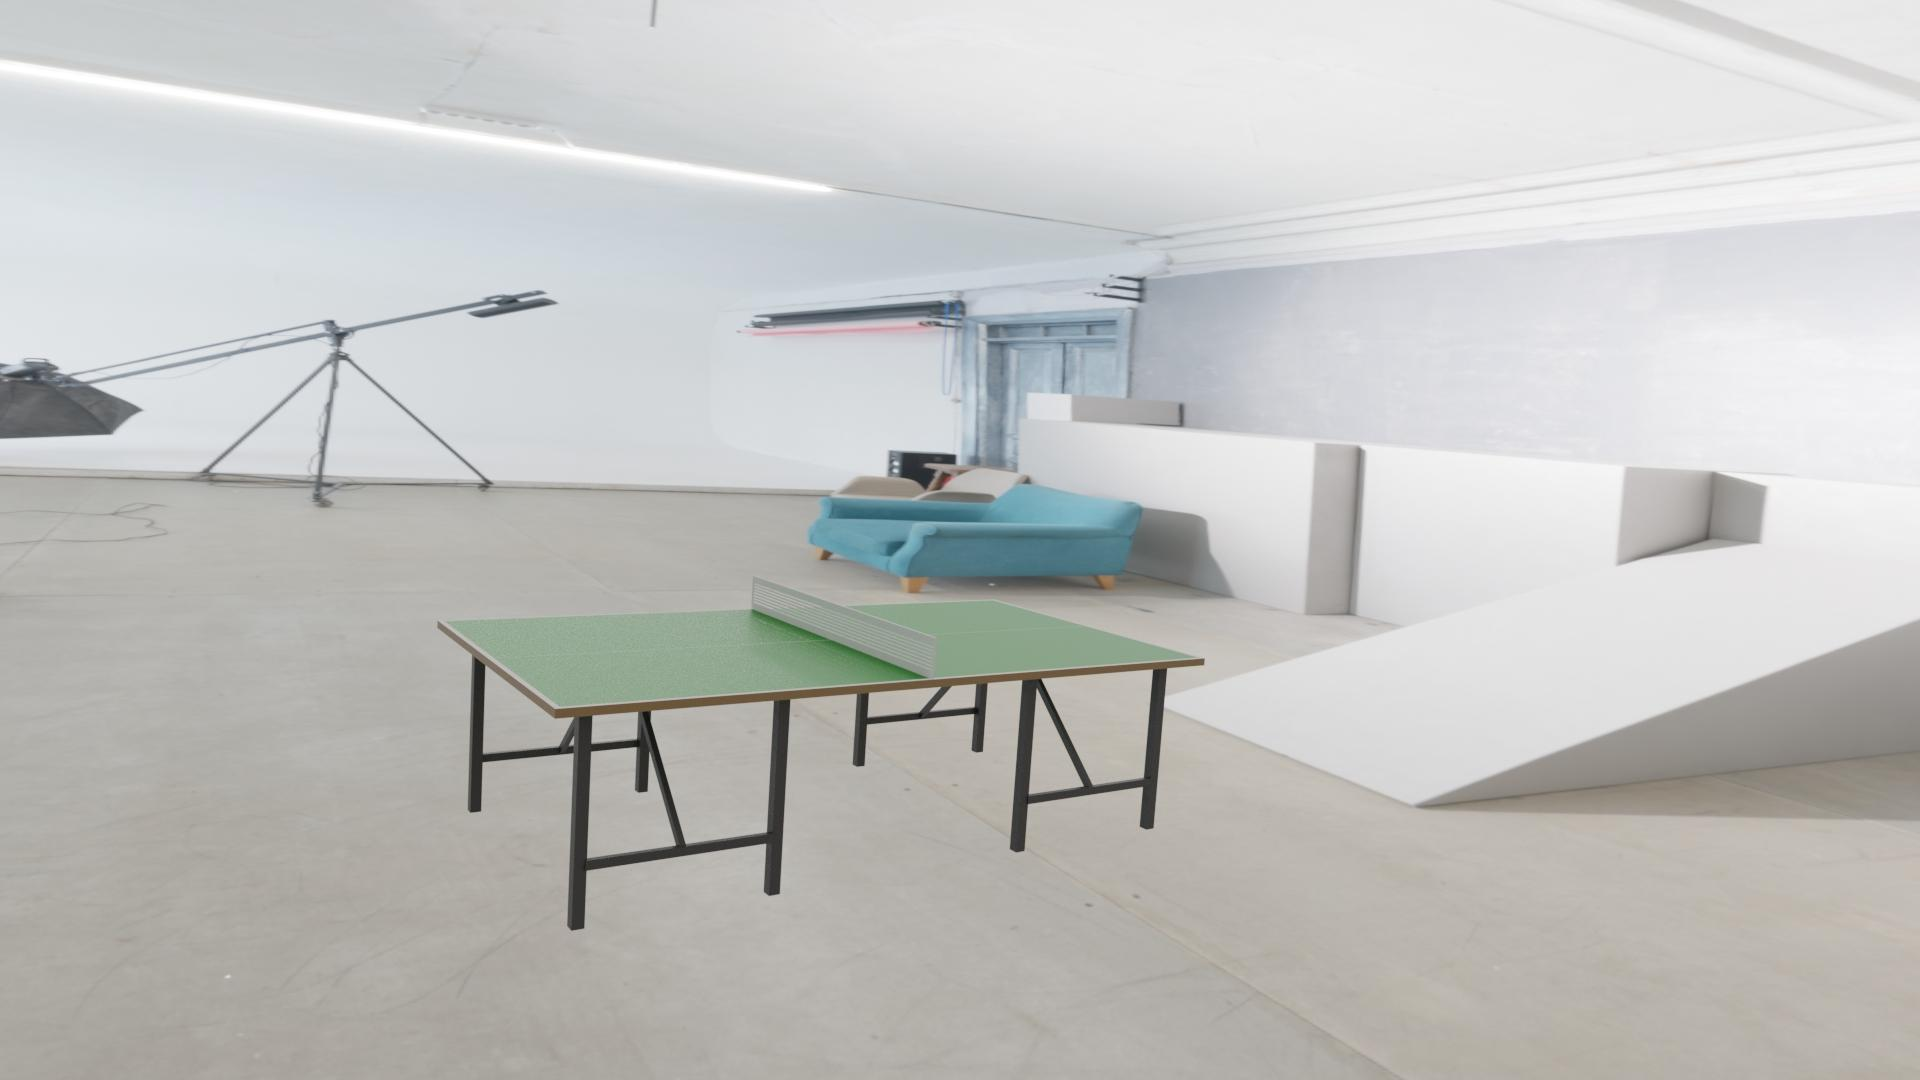table: (444, 600, 1199, 707)
